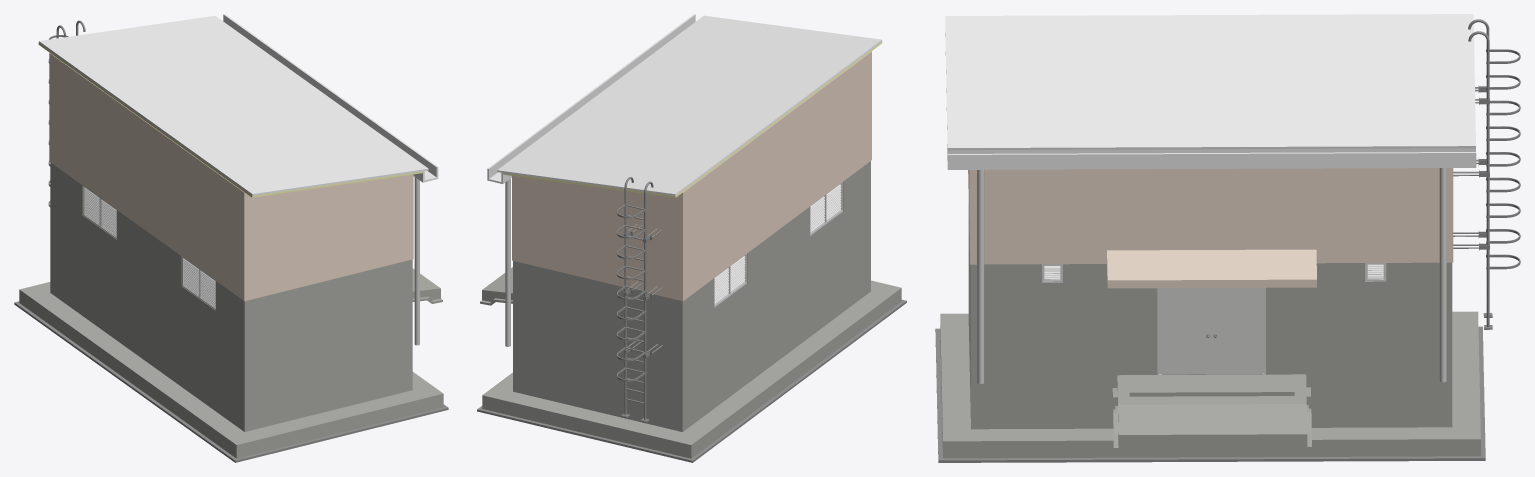
File: 6_oil_IFC2x3_Reference_View.glb
3 renders of one model, left to right at view 1: azimuth 30°, elevation 25°; view 2: azimuth 150°, elevation 25°; view 3: azimuth 270°, elevation 25°, orthographic. The views are drawn at different scales.
Visible parts, largest first — view 1: product-337ca9a9-8525-4d58-aff4-0a8023ff4202-body, product-2f18c336-cd09-429e-a0d1-6d2c25554f91-body, product-2f18c336-cd09-429e-a0d1-6d2c25554ebf-body, product-8134622d-a2f9-4d75-bc39-c9b47dfa6386-body, product-8134622d-a2f9-4d75-bc39-c9b47dfa6384-body, product-8134622d-a2f9-4d75-bc39-c9b47dfa6074-body, product-8134622d-a2f9-4d75-bc39-c9b47dfa61ab-body, product-8134622d-a2f9-4d75-bc39-c9b47dfa63e6-body, product-8134622d-a2f9-4d75-bc39-c9b47dfa63e0-body, product-a6ec13e9-0bca-4fa7-85d5-9a0fe0b37b6e-body, product-8134622d-a2f9-4d75-bc39-c9b47dfa0a49-body, product-8134622d-a2f9-4d75-bc39-c9b47dfa0bc4-body (+2 smaller); view 2: product-337ca9a9-8525-4d58-aff4-0a8023ff4202-body, product-2f18c336-cd09-429e-a0d1-6d2c25554f91-body, product-2f18c336-cd09-429e-a0d1-6d2c25554fed-body, product-8134622d-a2f9-4d75-bc39-c9b47dfa6384-body, product-8134622d-a2f9-4d75-bc39-c9b47dfa638a-body, product-8134622d-a2f9-4d75-bc39-c9b47dfa6074-body, product-8134622d-a2f9-4d75-bc39-c9b47dfa63e6-body, product-8134622d-a2f9-4d75-bc39-c9b47dfa60d7-body, product-8134622d-a2f9-4d75-bc39-c9b47dfa63e4-body, product-b49500f3-df42-4ec0-ae13-8d58634a7357-body, product-a6ec13e9-0bca-4fa7-85d5-9a0fe0b37b6e-body, product-8110d90a-e38f-4b0c-9c43-3f556ec452be-body (+4 smaller); view 3: product-337ca9a9-8525-4d58-aff4-0a8023ff4202-body, product-2f18c336-cd09-429e-a0d1-6d2c25554d22-body, product-8134622d-a2f9-4d75-bc39-c9b47dfa6388-body, product-8134622d-a2f9-4d75-bc39-c9b47dfa7c40-body, product-8134622d-a2f9-4d75-bc39-c9b47dfa6358-body, product-8134622d-a2f9-4d75-bc39-c9b47dfa4534-body, product-8134622d-a2f9-4d75-bc39-c9b47dfa2226-body, product-0299f4af-7121-436d-8fec-86d50e477ff1-body, product-8134622d-a2f9-4d75-bc39-c9b47dfa63ea-body, product-8134622d-a2f9-4d75-bc39-c9b47dfa63e0-body, product-8134622d-a2f9-4d75-bc39-c9b47dfa63e4-body, product-a6ec13e9-0bca-4fa7-85d5-9a0fe0b37b6e-body (+7 smaller).
Part boxes in pixels (x1=…): product-337ca9a9-8525-4d58-aff4-0a8023ff4202-body: x1=38, y1=14, x2=438, y2=197; product-2f18c336-cd09-429e-a0d1-6d2c25554f91-body: x1=49, y1=52, x2=244, y2=301; product-2f18c336-cd09-429e-a0d1-6d2c25554ebf-body: x1=245, y1=174, x2=412, y2=300; product-8134622d-a2f9-4d75-bc39-c9b47dfa6386-body: x1=241, y1=259, x2=412, y2=389; product-8134622d-a2f9-4d75-bc39-c9b47dfa6384-body: x1=50, y1=162, x2=240, y2=386; product-8134622d-a2f9-4d75-bc39-c9b47dfa6074-body: x1=50, y1=250, x2=240, y2=428; product-8134622d-a2f9-4d75-bc39-c9b47dfa61ab-body: x1=241, y1=347, x2=412, y2=431; product-8134622d-a2f9-4d75-bc39-c9b47dfa63e6-body: x1=19, y1=282, x2=228, y2=439; product-8134622d-a2f9-4d75-bc39-c9b47dfa63e0-body: x1=210, y1=374, x2=443, y2=458; product-a6ec13e9-0bca-4fa7-85d5-9a0fe0b37b6e-body: x1=14, y1=301, x2=448, y2=462; product-8134622d-a2f9-4d75-bc39-c9b47dfa0a49-body: x1=182, y1=257, x2=215, y2=310; product-8134622d-a2f9-4d75-bc39-c9b47dfa0bc4-body: x1=83, y1=186, x2=116, y2=239; product-337ca9a9-8525-4d58-aff4-0a8023ff4202-body: x1=487, y1=14, x2=882, y2=197; product-2f18c336-cd09-429e-a0d1-6d2c25554f91-body: x1=682, y1=51, x2=871, y2=301; product-2f18c336-cd09-429e-a0d1-6d2c25554fed-body: x1=512, y1=176, x2=682, y2=300; product-8134622d-a2f9-4d75-bc39-c9b47dfa6384-body: x1=676, y1=164, x2=867, y2=389; product-8134622d-a2f9-4d75-bc39-c9b47dfa638a-body: x1=513, y1=261, x2=676, y2=387; product-8134622d-a2f9-4d75-bc39-c9b47dfa6074-body: x1=676, y1=251, x2=867, y2=431; product-8134622d-a2f9-4d75-bc39-c9b47dfa63e6-body: x1=645, y1=302, x2=875, y2=458; product-8134622d-a2f9-4d75-bc39-c9b47dfa60d7-body: x1=513, y1=349, x2=676, y2=430; product-8134622d-a2f9-4d75-bc39-c9b47dfa63e4-body: x1=482, y1=376, x2=655, y2=447; product-b49500f3-df42-4ec0-ae13-8d58634a7357-body: x1=616, y1=177, x2=662, y2=422; product-a6ec13e9-0bca-4fa7-85d5-9a0fe0b37b6e-body: x1=477, y1=299, x2=906, y2=462; product-8110d90a-e38f-4b0c-9c43-3f556ec452be-body: x1=505, y1=178, x2=510, y2=346; product-337ca9a9-8525-4d58-aff4-0a8023ff4202-body: x1=945, y1=14, x2=1476, y2=169; product-2f18c336-cd09-429e-a0d1-6d2c25554d22-body: x1=970, y1=168, x2=1453, y2=264; product-8134622d-a2f9-4d75-bc39-c9b47dfa6388-body: x1=1266, y1=262, x2=1439, y2=374; product-8134622d-a2f9-4d75-bc39-c9b47dfa7c40-body: x1=984, y1=264, x2=1157, y2=375; product-8134622d-a2f9-4d75-bc39-c9b47dfa6358-body: x1=980, y1=373, x2=1442, y2=429; product-8134622d-a2f9-4d75-bc39-c9b47dfa4534-body: x1=1117, y1=374, x2=1307, y2=447; product-8134622d-a2f9-4d75-bc39-c9b47dfa2226-body: x1=1157, y1=287, x2=1265, y2=375; product-0299f4af-7121-436d-8fec-86d50e477ff1-body: x1=1107, y1=249, x2=1316, y2=288; product-8134622d-a2f9-4d75-bc39-c9b47dfa63ea-body: x1=1009, y1=427, x2=1414, y2=457; product-8134622d-a2f9-4d75-bc39-c9b47dfa63e0-body: x1=940, y1=313, x2=1008, y2=458; product-8134622d-a2f9-4d75-bc39-c9b47dfa63e4-body: x1=1414, y1=339, x2=1480, y2=456; product-a6ec13e9-0bca-4fa7-85d5-9a0fe0b37b6e-body: x1=935, y1=326, x2=1485, y2=462.
Bounding box in the file's own units: 8.67 × 7.9 × 12.4.
